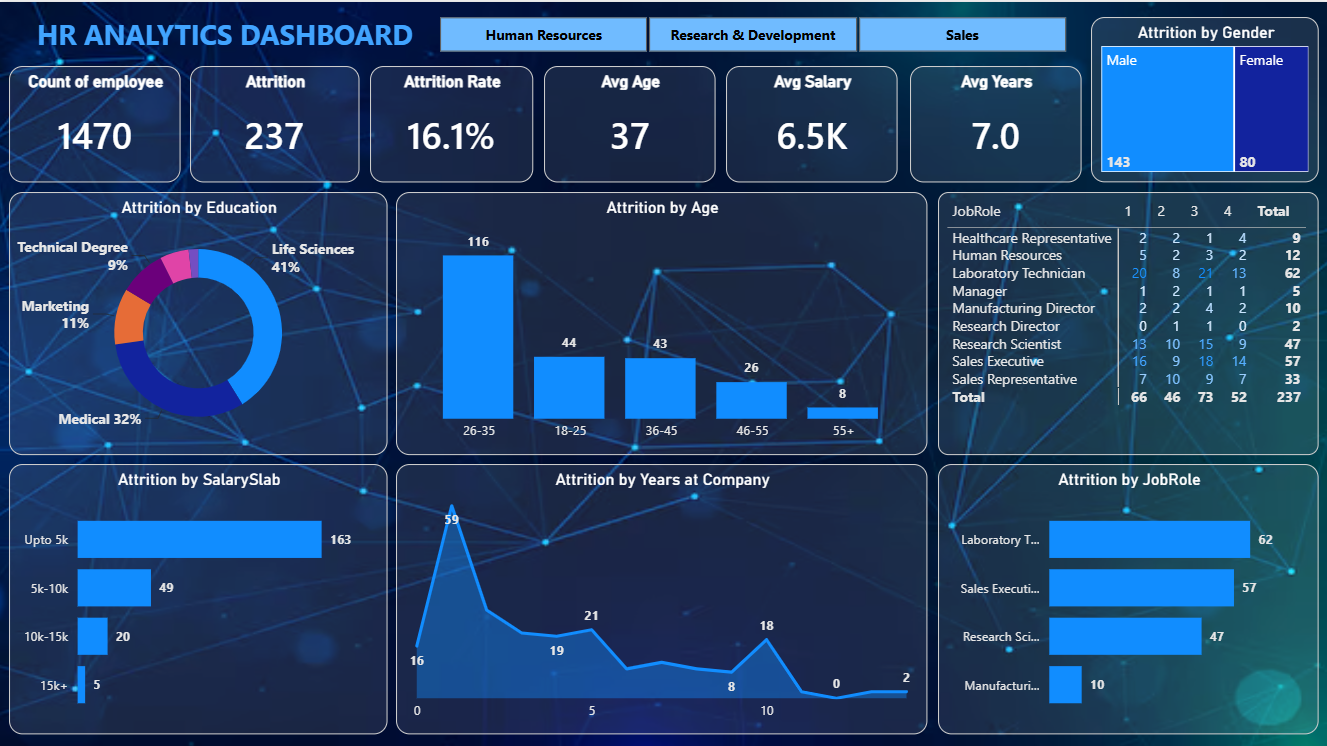

Layout of this report page (visuals, bound fields, positions):
{"tool":"powerbi","page":{"name":"Page 1","canvas":[1280,720],"ordinal":0},"visuals":[{"type":"cardVisual","title":"Count of employee","fields":{"Data":["CountNonNull(HR_Analytics.EmpID)"]},"box":[10.8,61.4,165.1,112],"z":0},{"type":"cardVisual","title":"Attrition","fields":{"Data":["Sum(HR_Analytics.AttritionCount)"]},"box":[184.3,61.4,162.7,112],"z":1000},{"type":"cardVisual","title":"Attrition Rate","fields":{"Data":["HR_Analytics.AttritionRate"]},"box":[357.8,61.4,156.6,112],"z":2000},{"type":"cardVisual","title":"Avg Age","fields":{"Data":["Avg(HR_Analytics.Age)"]},"box":[525.3,61.4,165.1,112],"z":3000},{"type":"cardVisual","title":"Avg Salary","fields":{"Data":["Avg(HR_Analytics.MonthlyIncome)"]},"box":[700,61.4,165.1,112],"z":4000},{"type":"cardVisual","title":"Avg Years","fields":{"Data":["Avg(HR_Analytics.YearsAtCompany)"]},"box":[877.1,61.4,165.1,112],"z":5000},{"type":"donutChart","title":"Attrition by Education","fields":{"Y":["CountNonNull(HR_Analytics.Attrition)"],"Category":["HR_Analytics.EducationField"]},"box":[10.8,183.1,363.9,253],"z":6000},{"type":"columnChart","title":"Attrition by Age","fields":{"Category":["HR_Analytics.AgeGroup"],"Y":["Sum(HR_Analytics.AttritionCount)"]},"box":[383.1,183.1,510.8,253],"z":7000},{"type":"pivotTable","fields":{"Rows":["HR_Analytics.JobRole"],"Columns":["HR_Analytics.JobSatisfaction"],"Values":["Sum(HR_Analytics.AttritionCount)"]},"box":[903.6,183.1,366.3,253],"z":8000},{"type":"barChart","title":"Attrition by SalarySlab","fields":{"Category":["HR_Analytics.SalarySlab"],"Y":["Sum(HR_Analytics.AttritionCount)"]},"box":[10.8,444.6,363.9,260.2],"z":9000},{"type":"barChart","title":"Attrition by JobRole","fields":{"Category":["HR_Analytics.JobRole"],"Y":["Sum(HR_Analytics.AttritionCount)"]},"box":[903.6,444.6,366.3,260.2],"z":10000},{"type":"areaChart","title":"Attrition by Years at Company","fields":{"Category":["HR_Analytics.YearsAtCompany"],"Y":["Sum(HR_Analytics.AttritionCount)"]},"box":[383.1,444.6,510.8,260.2],"z":11000},{"type":"treemap","title":"Attrition by Gender","fields":{"Group":["HR_Analytics.Gender"],"Values":["Sum(HR_Analytics.AttritionCount)"]},"box":[1050.6,14.5,219.3,159],"z":12000},{"type":"slicer","fields":{"Values":["HR_Analytics.Department"]},"box":[398.8,7.2,651.8,47],"z":13000},{"type":"textbox","box":[0,7.2,436.1,54.2],"z":14000}]}

Visuals, with their boxes in screenshot pixels (x1, y1, x2, y2), scaled from the page's 1280x720 canvas onto the 1327x746 screenshot:
"Count of employee" cardVisual: BBox(11, 64, 182, 180)
"Attrition" cardVisual: BBox(191, 64, 360, 180)
"Attrition Rate" cardVisual: BBox(371, 64, 533, 180)
"Avg Age" cardVisual: BBox(545, 64, 716, 180)
"Avg Salary" cardVisual: BBox(726, 64, 897, 180)
"Avg Years" cardVisual: BBox(909, 64, 1080, 180)
"Attrition by Education" donutChart: BBox(11, 190, 388, 452)
"Attrition by Age" columnChart: BBox(397, 190, 927, 452)
pivotTable - HR_Analytics.JobRole x HR_Analytics.JobSatisfaction: BBox(937, 190, 1317, 452)
"Attrition by SalarySlab" barChart: BBox(11, 461, 388, 730)
"Attrition by JobRole" barChart: BBox(937, 461, 1317, 730)
"Attrition by Years at Company" areaChart: BBox(397, 461, 927, 730)
"Attrition by Gender" treemap: BBox(1089, 15, 1317, 180)
slicer - HR_Analytics.Department: BBox(413, 7, 1089, 56)
textbox: BBox(0, 7, 452, 64)
